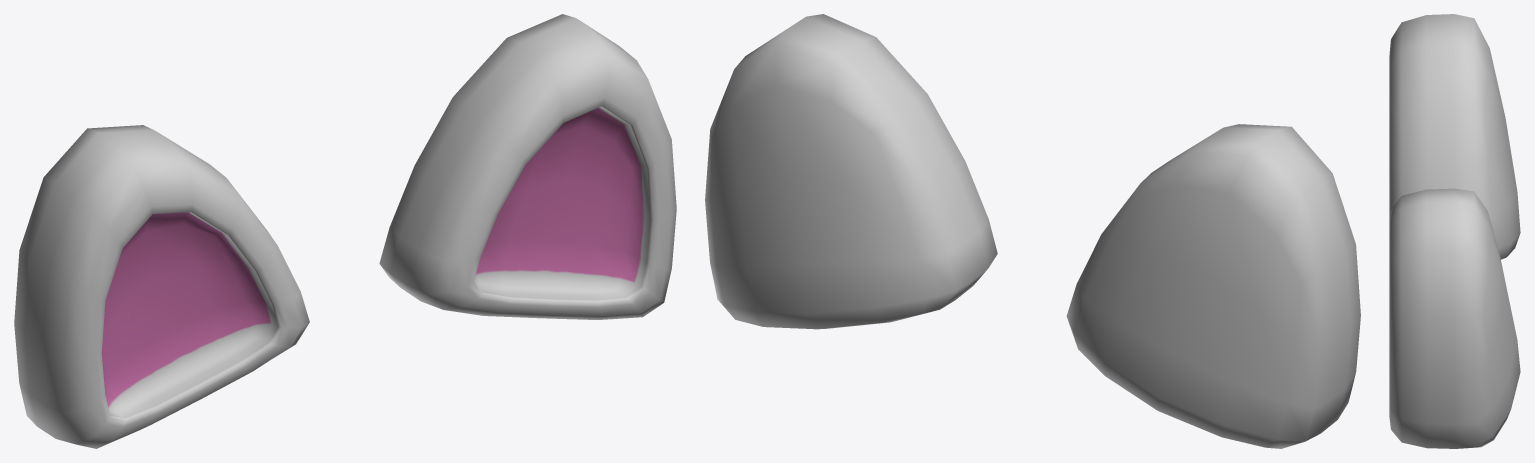
File: Cat Ears Hat.fbx
3 renders of one model, left to right at view 1: azimuth 30°, elevation 25°; view 2: azimuth 150°, elevation 25°; view 3: azimuth 270°, elevation 25°, orthographic. The views are drawn at different scales.
Visible parts, largest first — view 1: Cat Ears; view 2: Cat Ears; view 3: Cat Ears.
Part boxes in pixels (x1=…): Cat Ears: x1=14, y1=14, x2=676, y2=448; Cat Ears: x1=705, y1=14, x2=1360, y2=448; Cat Ears: x1=1389, y1=14, x2=1520, y2=448.
Bounding box in the file's own units: 1483 × 660 × 337.
Materials: 2 (2 with a texture image).
